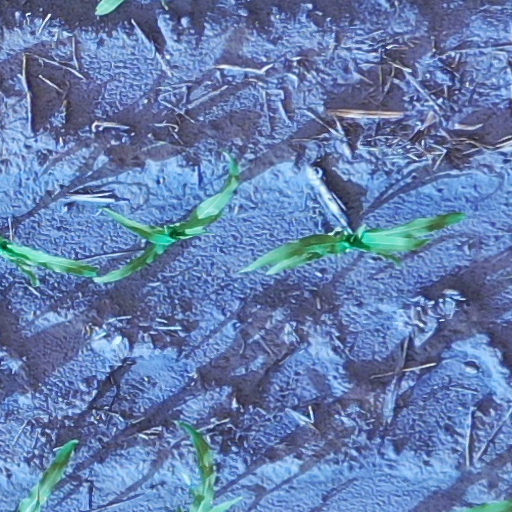planta: (85, 157, 247, 288), (239, 207, 470, 279)
